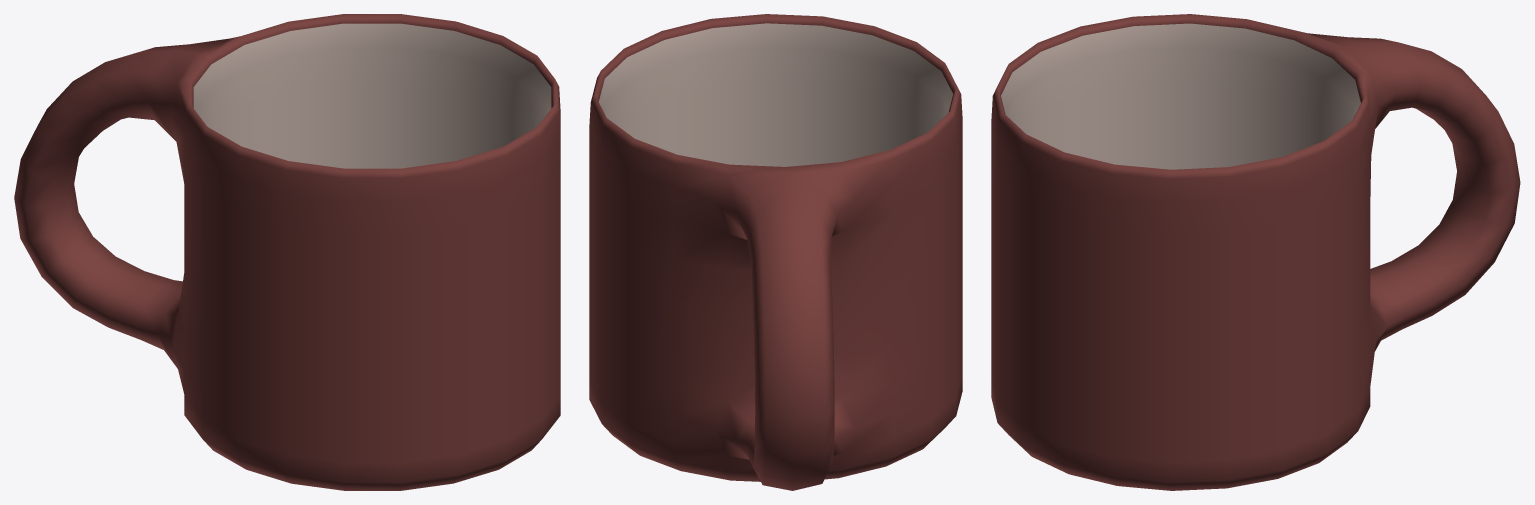
File: Mug.fbx
The picture shows the model from 3 angles, left to right: view 1: azimuth 30°, elevation 25°; view 2: azimuth 150°, elevation 25°; view 3: azimuth 270°, elevation 25°; orthographic projection. The views are drawn at different scales.
Parts seen in each view (by area): view 1: polySurface1107; view 2: polySurface1107; view 3: polySurface1107.
Boxes of the visible parts, x1,y1,x2,y2 form: polySurface1107: [14, 14, 560, 490]; polySurface1107: [589, 14, 962, 490]; polySurface1107: [991, 14, 1520, 490].
Bounding box in the file's own units: 0.089 × 0.0759 × 0.1107.
